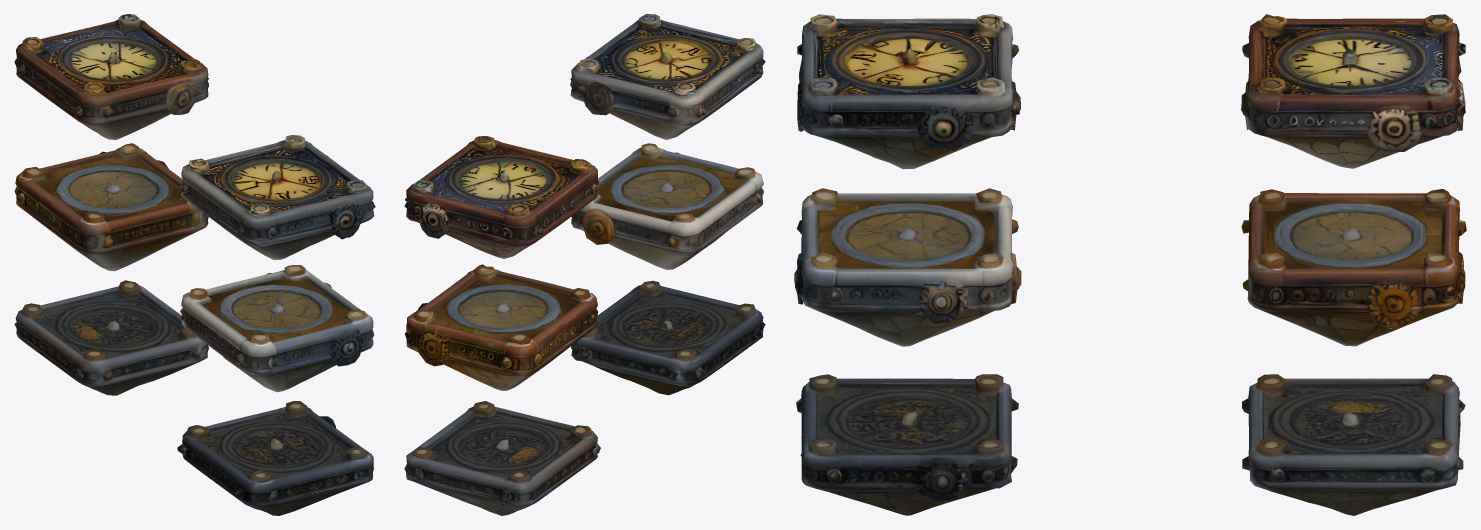
Rendered from clock4.fbx.
3 renders of one model, left to right at view 1: azimuth 30°, elevation 25°; view 2: azimuth 150°, elevation 25°; view 3: azimuth 270°, elevation 25°, orthographic. The views are drawn at different scales.
Parts seen in each view (by area): view 1: tripo_node_9d226d26; view 2: tripo_node_9d226d26; view 3: tripo_node_9d226d26.
Part boxes in pixels (x1,y1,x2,y2): tripo_node_9d226d26: (14, 14, 375, 515); tripo_node_9d226d26: (404, 14, 765, 515); tripo_node_9d226d26: (794, 14, 1466, 515).
Bounding box in the file's own units: 0.3223 × 0.7625 × 0.9996.
1 material, 1 textured.
